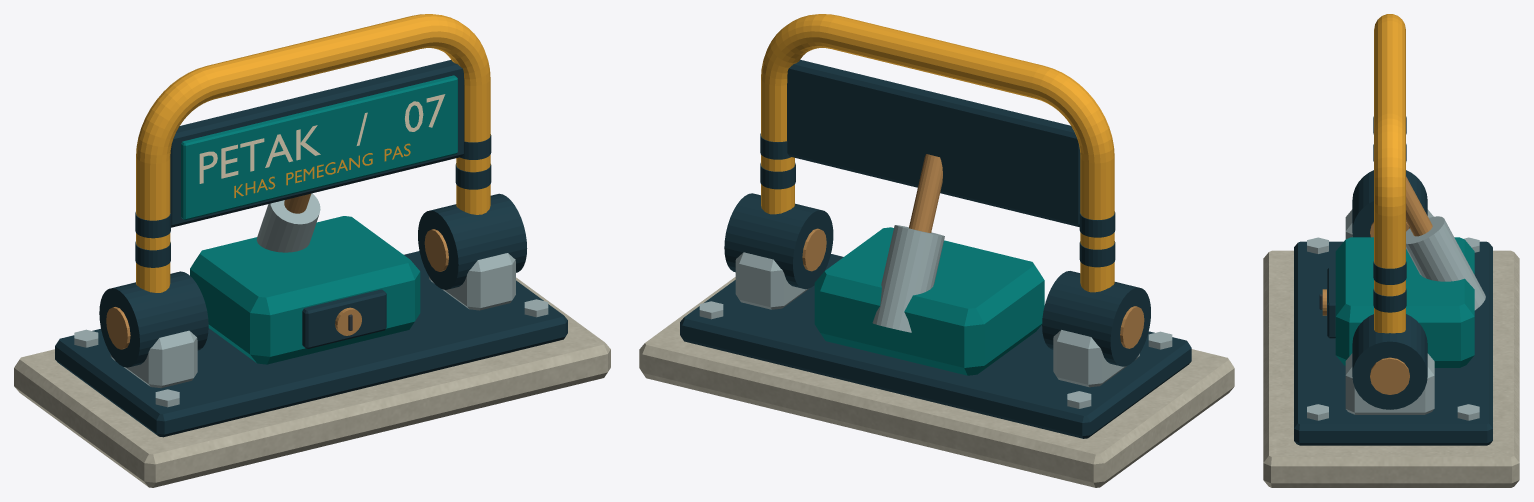
The picture shows the model from 3 angles, left to right: view 1: azimuth 30°, elevation 25°; view 2: azimuth 150°, elevation 25°; view 3: azimuth 270°, elevation 25°; orthographic projection. The views are drawn at different scales.
Parts seen in each view (by area): view 1: Fixing pad, Pressed baseplate, Enamel insert, Powdercoated folding hoop, Drive casing, Axle bosses, Stamped crossplate, Bearing pedestals, Reserve legend, Key escutcheon, Reflective sleeves, Actuator barrel (+2 smaller); view 2: Fixing pad, Stamped crossplate, Pressed baseplate, Drive casing, Powdercoated folding hoop, Axle bosses, Bearing pedestals, Actuator barrel, Reflective sleeves, Actuator rod, Hinge pins, Expansion anchors; view 3: Fixing pad, Pressed baseplate, Drive casing, Powdercoated folding hoop, Axle bosses, Actuator barrel, Bearing pedestals, Hinge pins, Reflective sleeves, Expansion anchors, Actuator rod, Key escutcheon.
Part boxes in pixels (bbox=[...]): Fixing pad: bbox=[14, 277, 610, 487]; Pressed baseplate: bbox=[55, 251, 567, 437]; Enamel insert: bbox=[181, 75, 457, 220]; Powdercoated folding hoop: bbox=[136, 14, 490, 292]; Drive casing: bbox=[190, 216, 420, 364]; Axle bosses: bbox=[99, 193, 527, 367]; Stamped crossplate: bbox=[170, 60, 464, 227]; Bearing pedestals: bbox=[110, 253, 515, 388]; Reserve legend: bbox=[199, 94, 445, 197]; Key escutcheon: bbox=[302, 289, 386, 348]; Reflective sleeves: bbox=[135, 134, 491, 267]; Actuator barrel: bbox=[256, 193, 320, 252]; Fixing pad: bbox=[639, 277, 1234, 487]; Stamped crossplate: bbox=[787, 59, 1080, 226]; Pressed baseplate: bbox=[680, 254, 1191, 438]; Drive casing: bbox=[814, 227, 1044, 375]; Powdercoated folding hoop: bbox=[761, 14, 1114, 292]; Axle bosses: bbox=[724, 193, 1150, 366]; Bearing pedestals: bbox=[735, 252, 1139, 387]; Actuator barrel: bbox=[872, 225, 944, 332]; Reflective sleeves: bbox=[760, 133, 1115, 267]; Actuator rod: bbox=[909, 154, 942, 232]; Hinge pins: bbox=[802, 228, 1144, 348]; Expansion anchors: bbox=[699, 301, 1172, 408]; Fixing pad: bbox=[1263, 250, 1519, 487]; Pressed baseplate: bbox=[1294, 241, 1492, 445]; Drive casing: bbox=[1335, 237, 1474, 367]; Powdercoated folding hoop: bbox=[1374, 14, 1405, 333]; Axle bosses: bbox=[1352, 170, 1427, 409]; Actuator barrel: bbox=[1406, 216, 1485, 310]; Bearing pedestals: bbox=[1345, 209, 1434, 414]; Hinge pins: bbox=[1370, 222, 1409, 394]; Reflective sleeves: bbox=[1373, 116, 1406, 312]; Expansion anchors: bbox=[1307, 237, 1479, 420]; Actuator rod: bbox=[1406, 176, 1432, 236]; Key escutcheon: bbox=[1327, 267, 1335, 338].
Bounding box in the file's own units: 1.02 × 0.716 × 0.524.
Materials: 8 (1 with a texture image).
